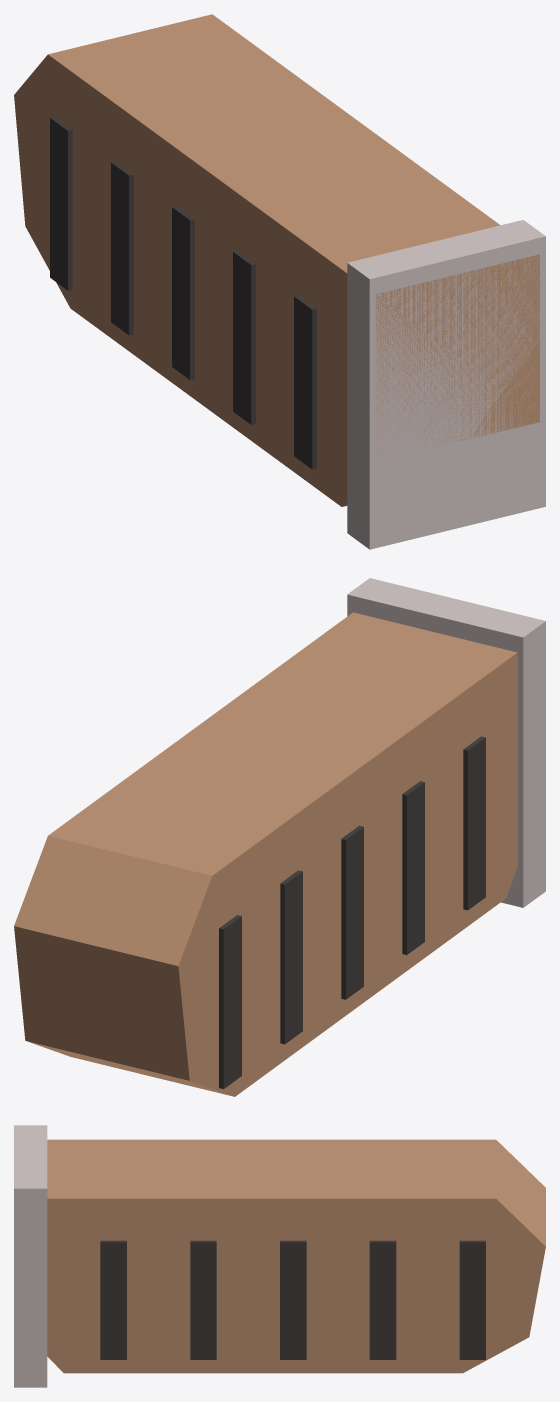
Rendered from drum_shotgun_pump_forend.glb.
The picture shows the model from 3 angles, top to bottom: view 1: azimuth 30°, elevation 25°; view 2: azimuth 150°, elevation 25°; view 3: azimuth 270°, elevation 25°; orthographic projection. The views are drawn at different scales.
Visible parts, largest first — view 1: pump_forend; view 2: pump_forend; view 3: pump_forend.
Boxes of the visible parts, bbox=[...] form: pump_forend: bbox=[14, 14, 545, 549]; pump_forend: bbox=[14, 578, 545, 1096]; pump_forend: bbox=[14, 1125, 545, 1387].
Size of the model in its own units: 0.045 by 0.066 by 0.16.
